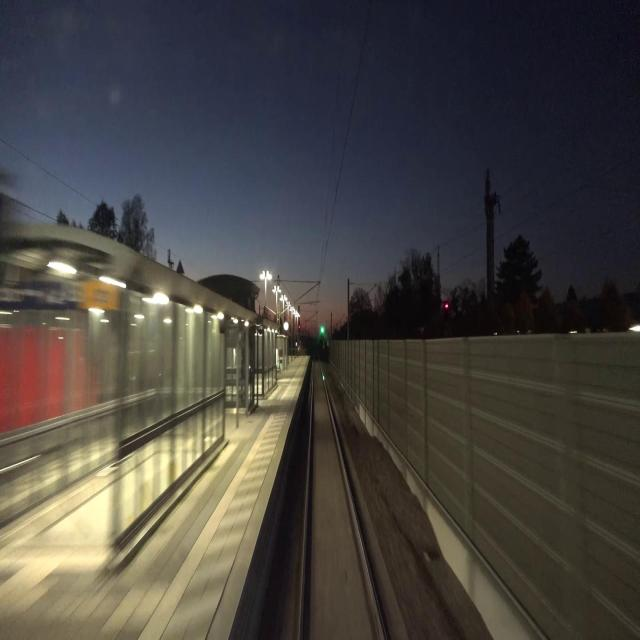rail-track: (302, 353, 382, 639)
